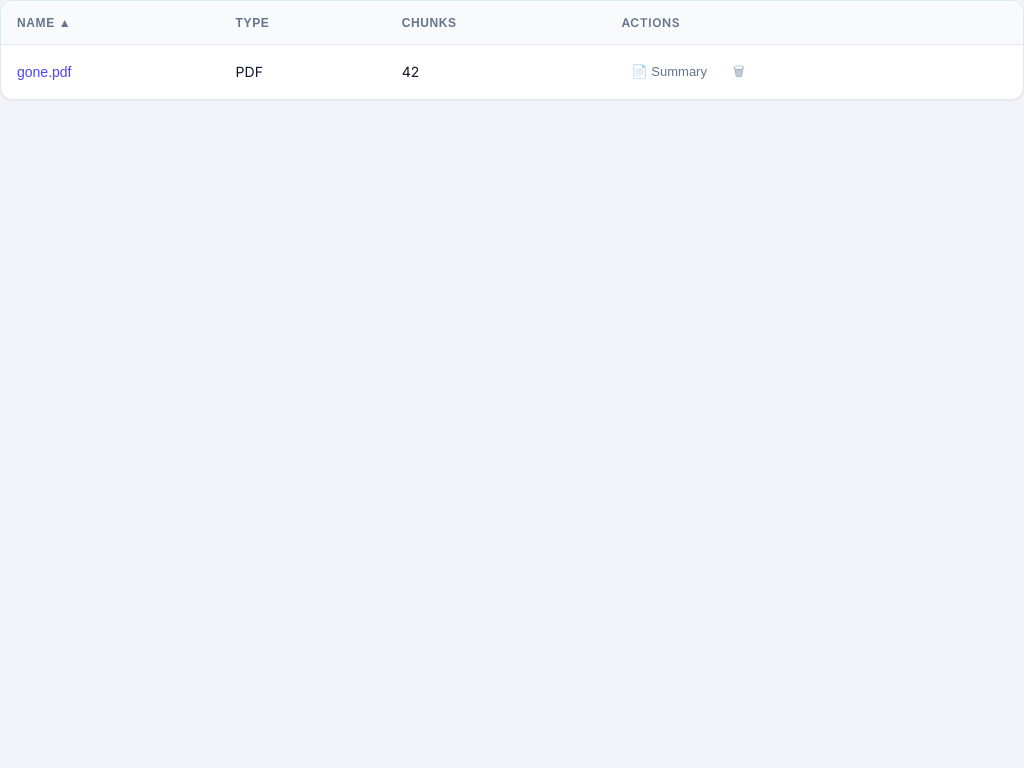
Scenario: DocumentTable — delete flow › hides dialog after successful deletion
This screenshot has width=1024, height=768.
Click the button named "delete gone.pdf".
click(739, 72)  # box [723,57,755,87]
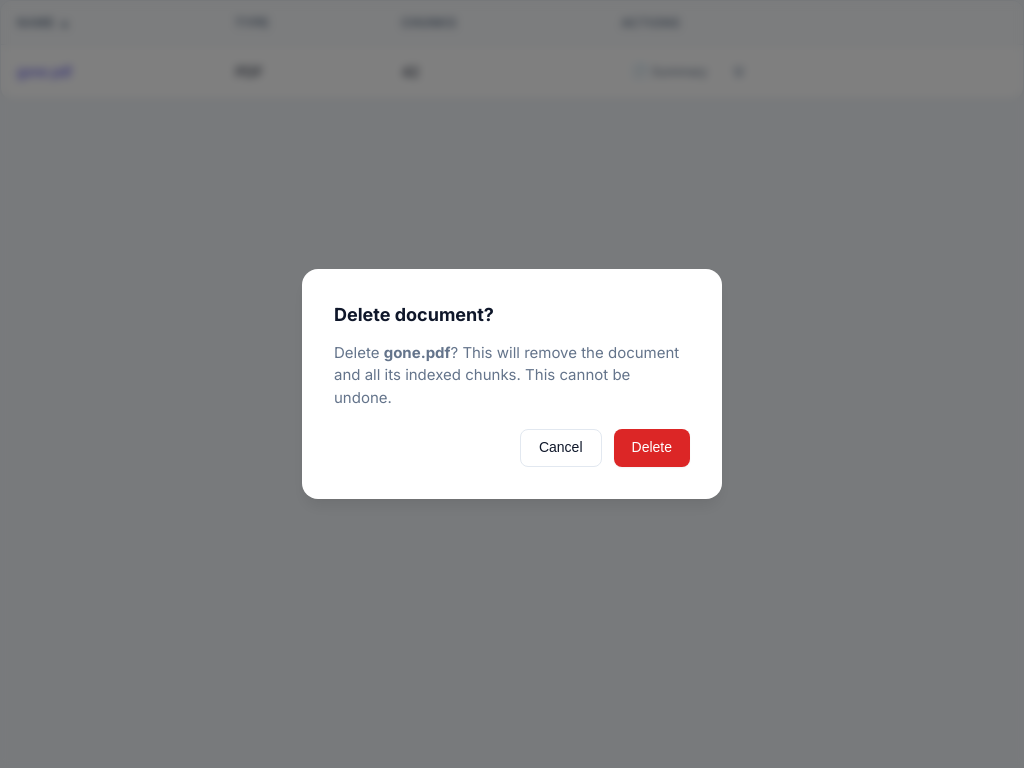
Click the button "Delete".
click(652, 448)  # box [614,429,690,467]
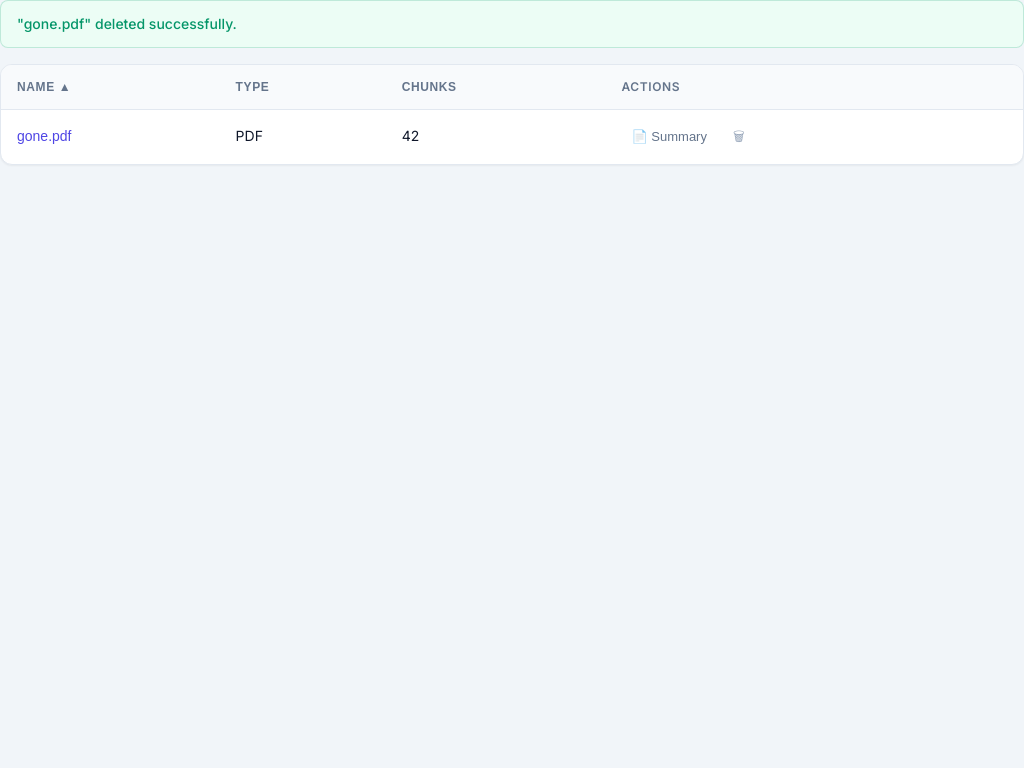
Now the dialog is gone
